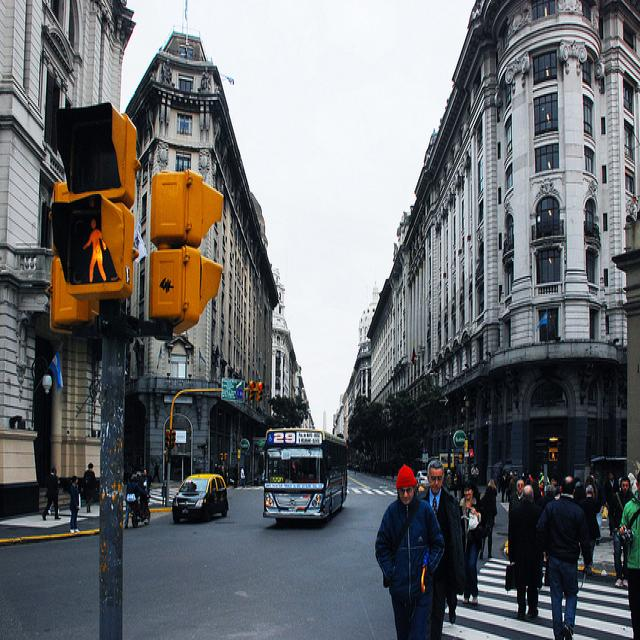motor: (128, 486, 153, 529)
